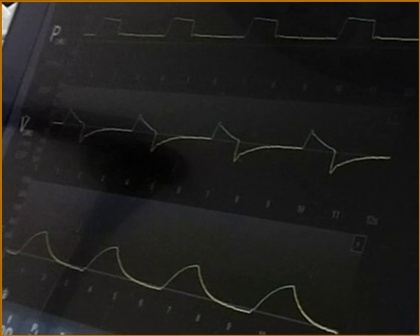Normal Flow: (54, 98, 389, 178)
Normal Volume: (8, 224, 338, 333)
